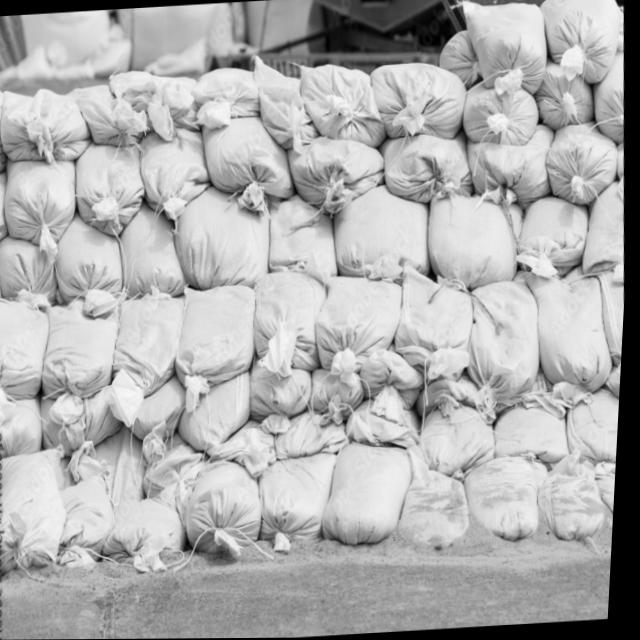sack: (522, 269, 624, 410), (463, 278, 549, 427), (426, 179, 529, 291), (170, 184, 277, 289), (40, 297, 127, 425), (392, 261, 481, 383), (66, 67, 200, 148), (332, 182, 435, 286), (198, 115, 299, 221), (322, 440, 421, 546), (172, 285, 264, 393), (0, 447, 76, 576), (315, 272, 410, 369), (251, 269, 334, 380), (457, 0, 551, 97), (286, 133, 391, 218), (2, 155, 84, 263), (186, 459, 271, 562), (297, 59, 389, 151), (368, 61, 471, 143), (111, 294, 192, 398), (465, 454, 555, 544), (465, 124, 559, 210), (54, 213, 130, 319), (260, 451, 346, 544), (137, 123, 216, 221), (72, 140, 150, 238), (0, 84, 95, 163), (537, 0, 624, 86), (0, 297, 58, 425), (380, 131, 475, 207), (250, 51, 323, 149), (118, 203, 193, 297), (544, 120, 622, 209), (106, 496, 194, 574), (539, 454, 611, 544), (421, 397, 504, 475), (516, 196, 593, 280), (178, 370, 257, 451), (268, 194, 344, 278), (401, 468, 476, 551), (41, 385, 129, 455), (209, 410, 297, 480), (60, 472, 124, 568), (360, 347, 432, 431), (496, 399, 578, 467), (461, 80, 543, 148), (93, 424, 156, 510), (278, 395, 356, 462), (581, 179, 631, 278), (0, 233, 63, 309), (144, 430, 214, 495), (347, 395, 425, 451), (195, 66, 263, 130), (534, 62, 598, 130), (567, 388, 624, 462), (127, 375, 194, 437), (254, 361, 318, 421), (312, 365, 372, 422), (592, 54, 629, 145), (0, 396, 49, 460), (437, 29, 481, 89), (422, 378, 485, 417), (0, 171, 12, 247), (0, 82, 8, 171)
